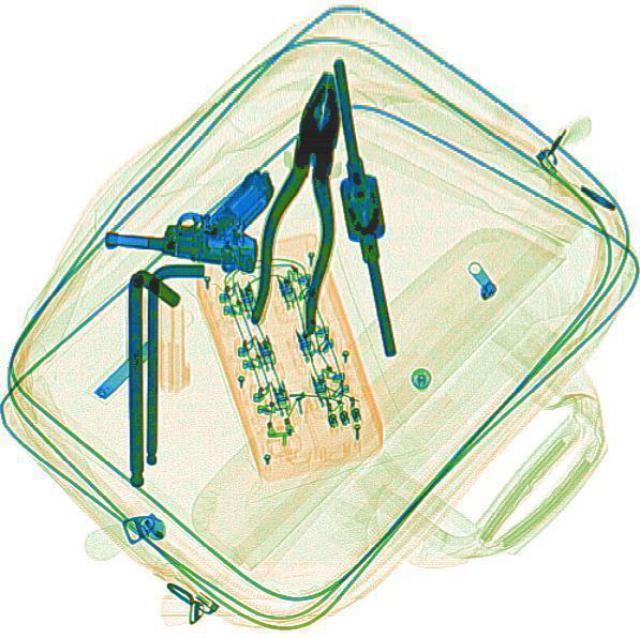Gun: (100, 152, 274, 273)
Pliers: (240, 65, 364, 336)
